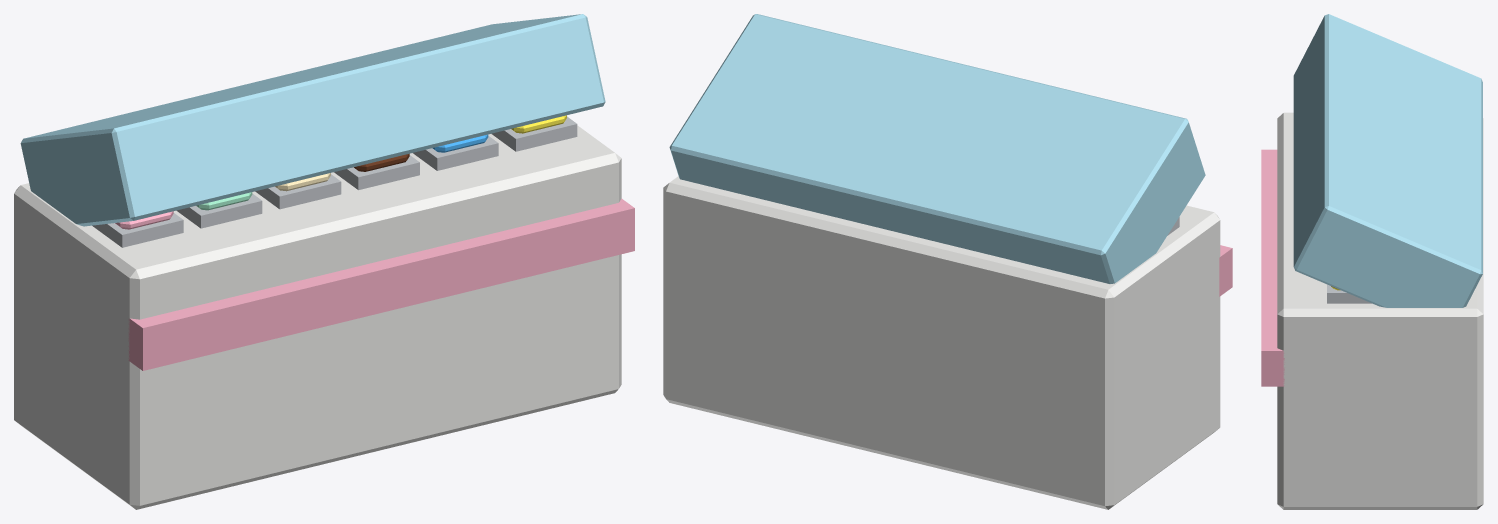
Rendered from IceCreamCase.fbx.
3 renders of one model, left to right at view 1: azimuth 30°, elevation 25°; view 2: azimuth 150°, elevation 25°; view 3: azimuth 270°, elevation 25°, orthographic. The views are drawn at different scales.
Visible parts, largest first — view 1: IceCreamCase; view 2: IceCreamCase; view 3: IceCreamCase.
Boxes of the visible parts, box(x1,y1,x2,y2) form: IceCreamCase: box(14, 14, 634, 509); IceCreamCase: box(663, 14, 1232, 509); IceCreamCase: box(1261, 14, 1483, 509).
Size of the model in its own units: 6 by 4.2 by 2.8.
Materials: 1 (1 with a texture image).
